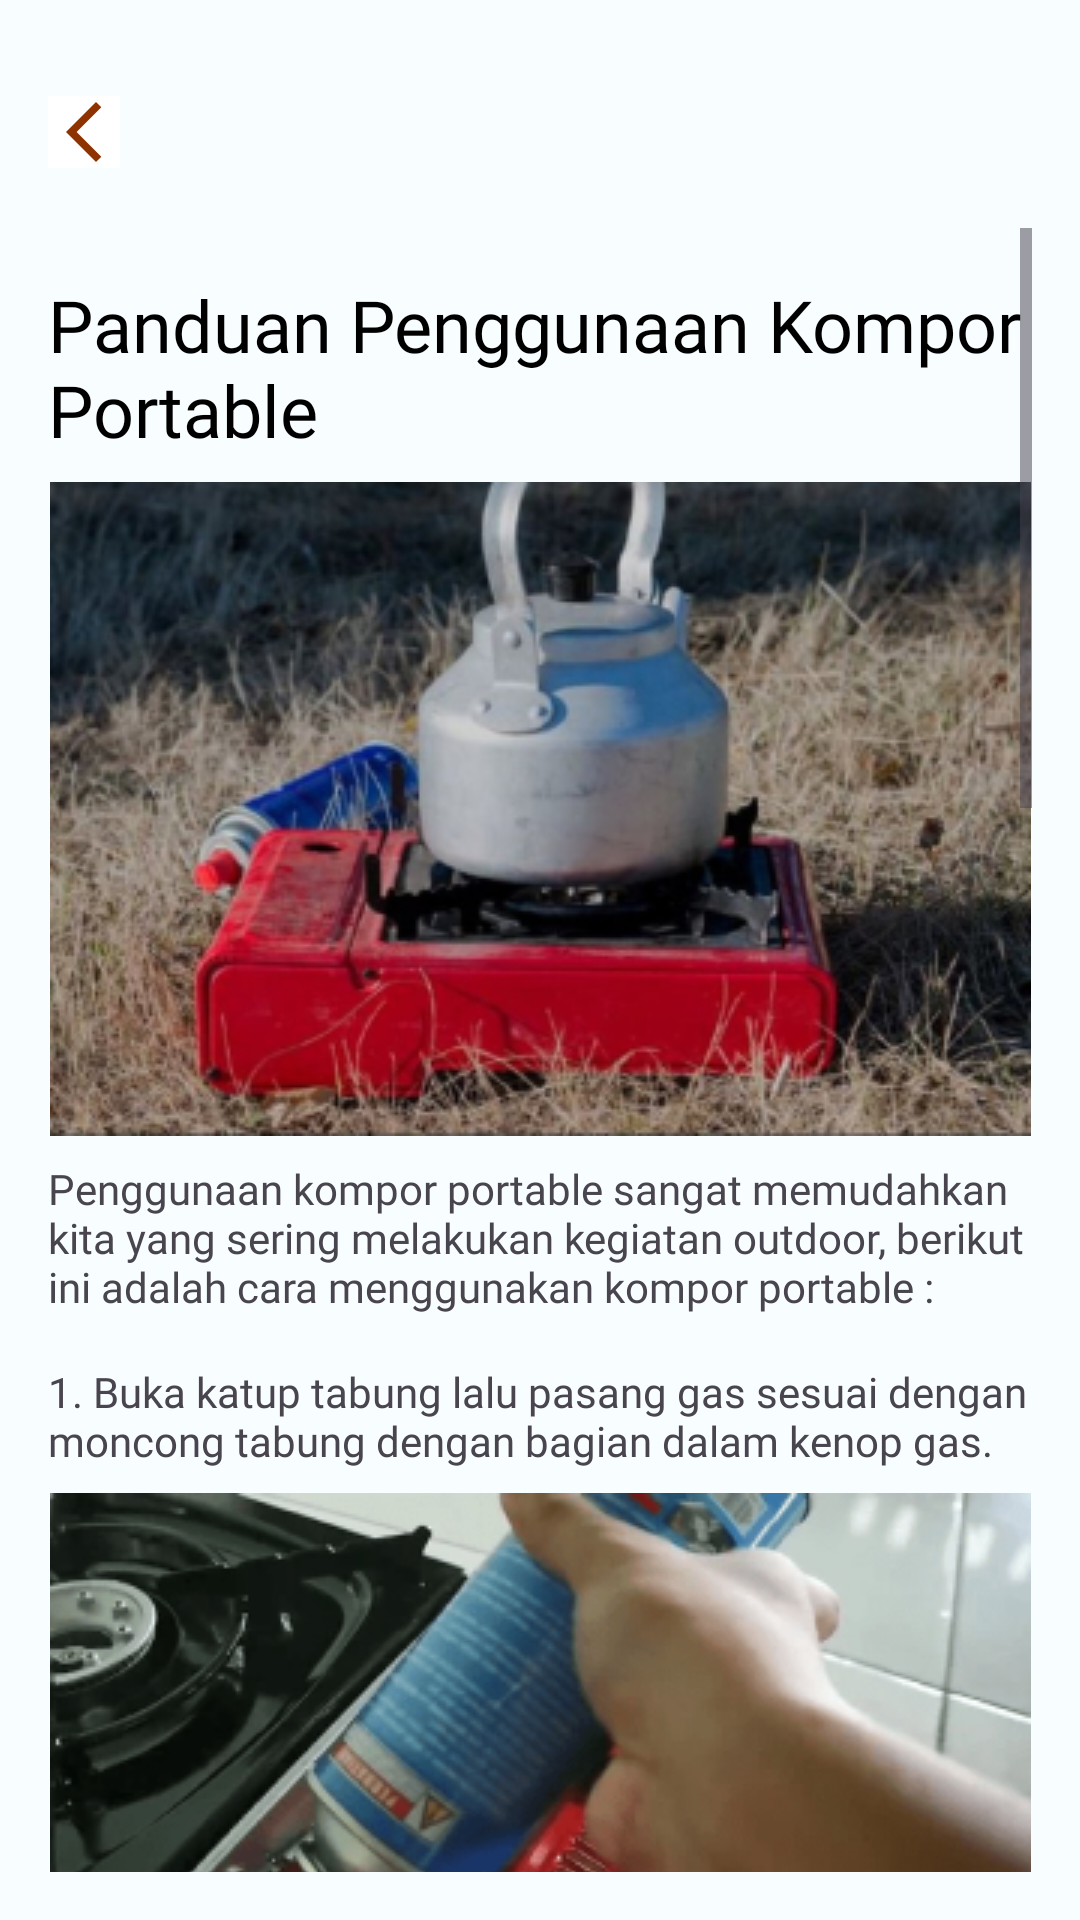

Where icons sit on this 1080 x 1920 app screen, as [x1,y1,x2,y2]:
back: [66,102,101,162]
